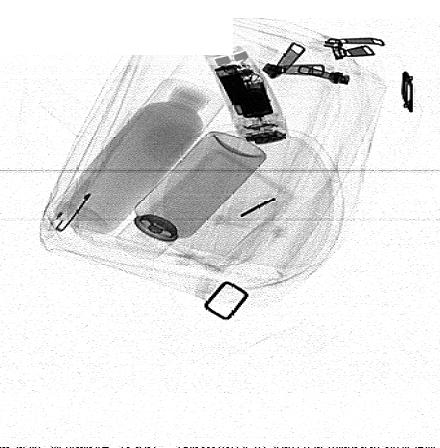Sprayer: (116, 132, 268, 260)
